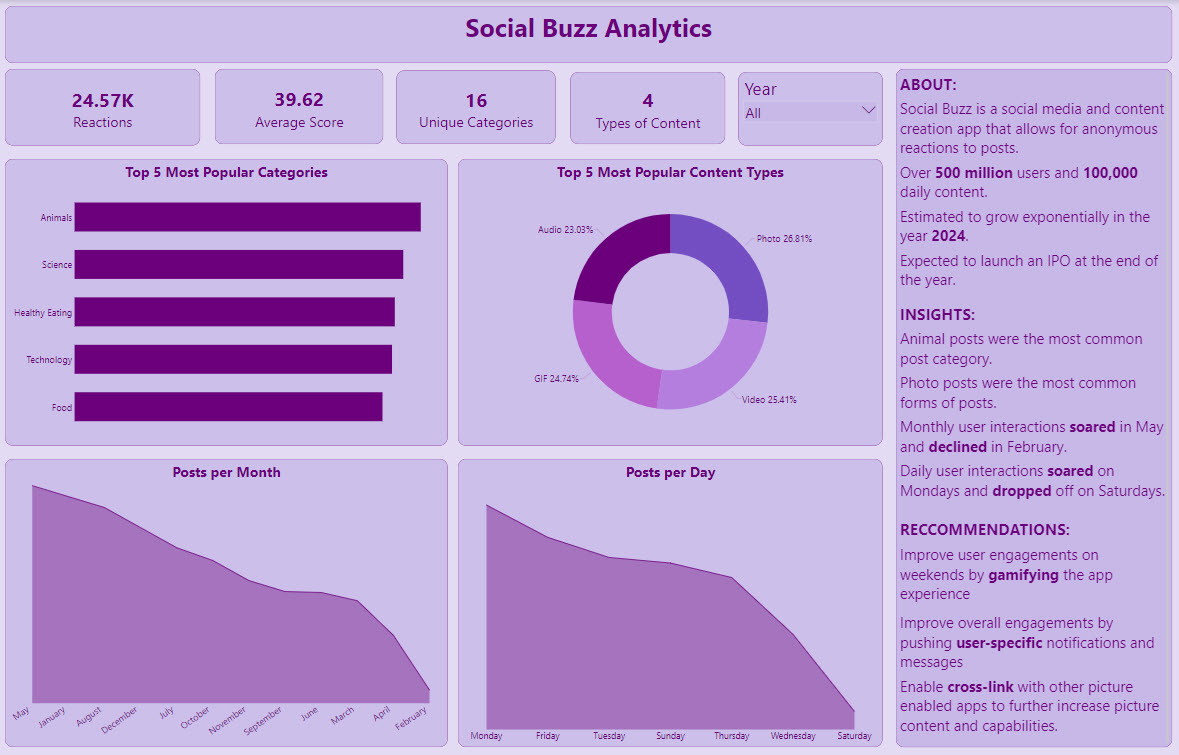

This screenshot's page, from the dashboard's own definition file:
{"tool":"powerbi","page":{"name":"Page 1","canvas":[4500,2870],"ordinal":0},"visuals":[{"type":"card","fields":{"Values":["Count(merged.Category)"]},"box":[1512,268.2,604.8,279.6],"z":0},{"type":"card","fields":{"Values":["Count(merged.Content Type )"]},"box":[2171,273.9,587.7,273.9],"z":1000},{"type":"textbox","box":[22.8,22.8,4439.1,216.8],"z":2000},{"type":"card","title":"Number of Reactions","fields":{"Values":["CountNonNull(merged.Content ID)"]},"box":[22.8,262.5,741.7,291],"z":3000},{"type":"clusteredBarChart","title":"Top 5 Most Popular Categories","fields":{"Category":["merged.Category"],"Y":["Sum(merged.Score)"]},"box":[22.8,604.8,1683.2,1089.8],"z":4000},{"type":"card","fields":{"Values":["Avg(merged.Score)"]},"box":[818.8,262.5,639,285.3],"z":5000},{"type":"donutChart","title":"Top 5 Most Popular Content Types","fields":{"Y":["CountNonNull(merged.Content Type )"],"Category":["merged.Content Type "]},"box":[1746,604.8,1614.7,1089.8],"z":6000},{"type":"areaChart","title":"Posts per Month","fields":{"Category":["merged.Month"],"Y":["CountNonNull(merged.Month)"]},"box":[22.8,1746,1683.2,1095.5],"z":7000},{"type":"areaChart","title":"Posts per Day","fields":{"Y":["CountNonNull(merged.Day)"],"Category":["merged.Day"]},"box":[1746,1746,1614.7,1095.5],"z":8000},{"type":"slicer","fields":{"Values":["merged.Year"]},"box":[2812.9,273.9,547.8,279.6],"z":10000},{"type":"textbox","box":[3412,262.5,1049.9,2579],"z":11000}]}

Visuals, with their boxes in screenshot pixels (x1, y1, x2, y2), scaled from the page's 4500x2870 canvas onto the 1179x755 screenshot:
card - Count(merged.Category): {"left": 396, "top": 71, "right": 555, "bottom": 144}
card - Count(merged.Content Type ): {"left": 569, "top": 72, "right": 723, "bottom": 144}
textbox: {"left": 6, "top": 6, "right": 1169, "bottom": 63}
"Number of Reactions" card: {"left": 6, "top": 69, "right": 200, "bottom": 146}
"Top 5 Most Popular Categories" clusteredBarChart: {"left": 6, "top": 159, "right": 447, "bottom": 446}
card - Avg(merged.Score): {"left": 215, "top": 69, "right": 382, "bottom": 144}
"Top 5 Most Popular Content Types" donutChart: {"left": 457, "top": 159, "right": 881, "bottom": 446}
"Posts per Month" areaChart: {"left": 6, "top": 459, "right": 447, "bottom": 748}
"Posts per Day" areaChart: {"left": 457, "top": 459, "right": 881, "bottom": 748}
slicer - merged.Year: {"left": 737, "top": 72, "right": 881, "bottom": 146}
textbox: {"left": 894, "top": 69, "right": 1169, "bottom": 748}
